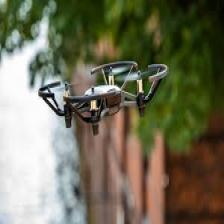drone: (38, 60, 166, 126)
